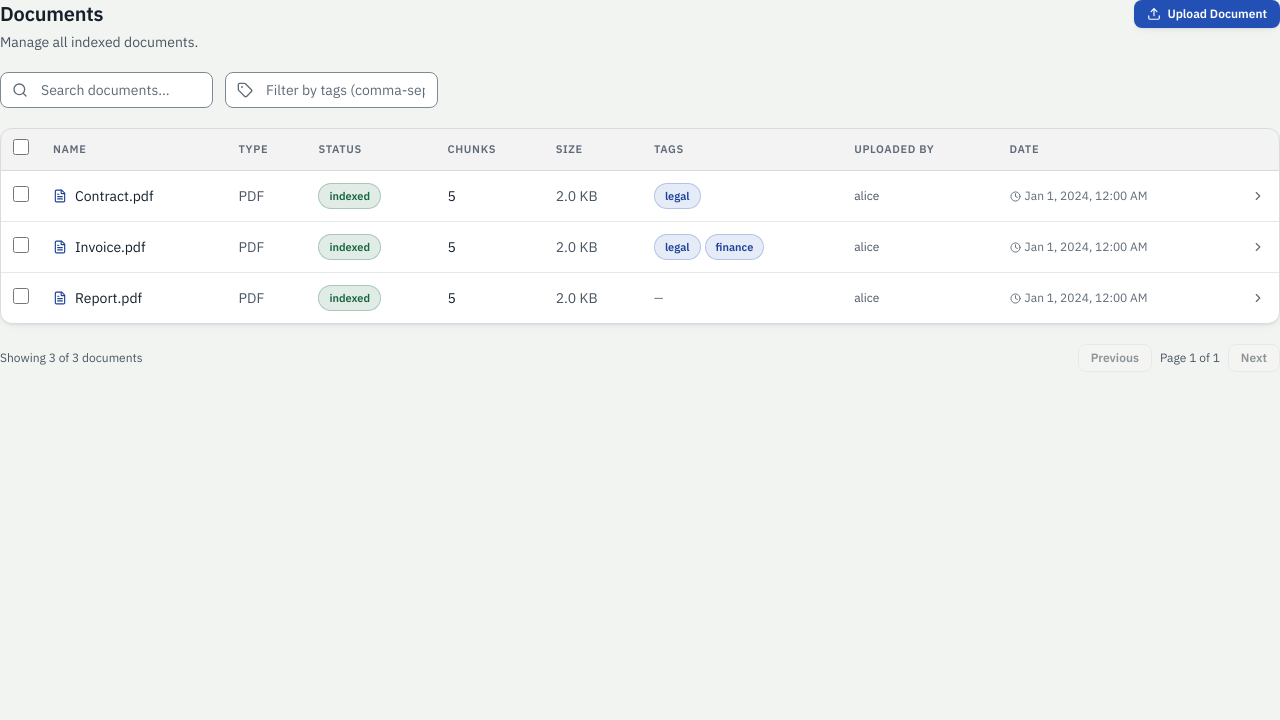
it: AdminDocumentsPage — Fix round 1 › partial failure: clears only the ids that succeeded
Expected: the text "Contract.pdf" is shown, [75,186,154,206]
Click the checkbox named "Select all documents" at {"x": 21, "y": 147}, box [13,139,29,155]
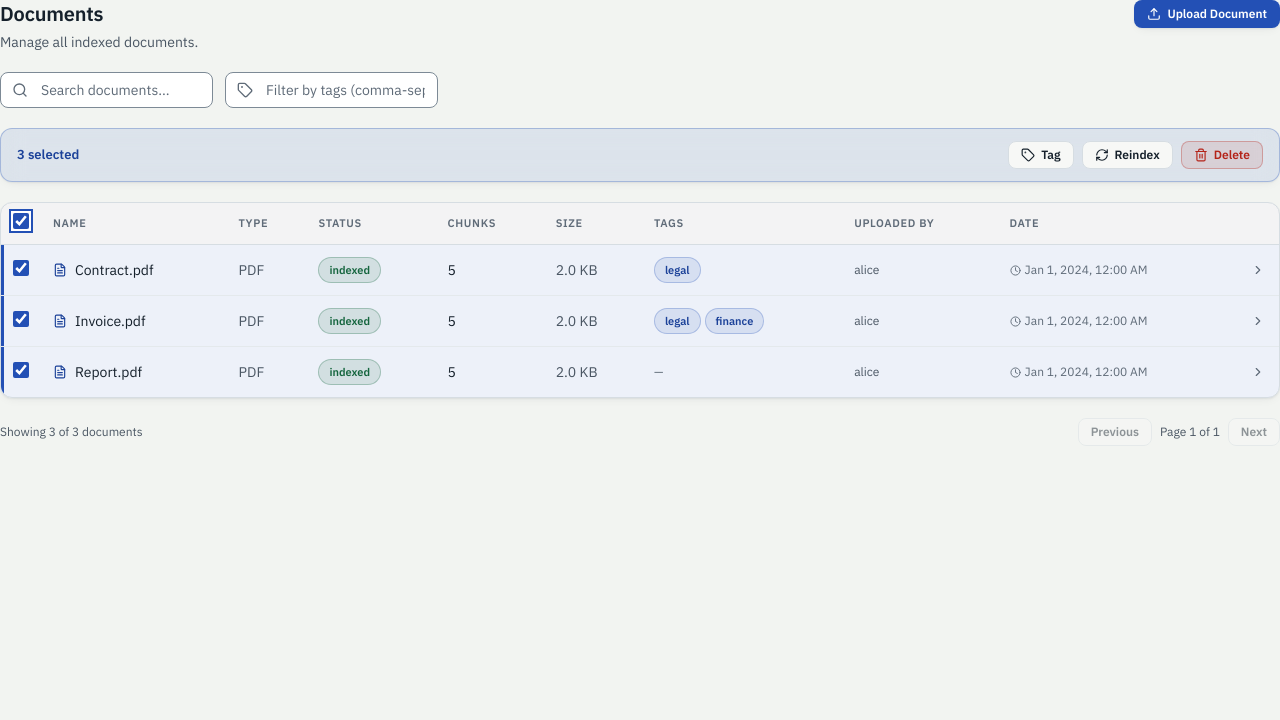
Click the checkbox named "Select Contract.pdf" at {"x": 21, "y": 268}, box [13,260,29,276]
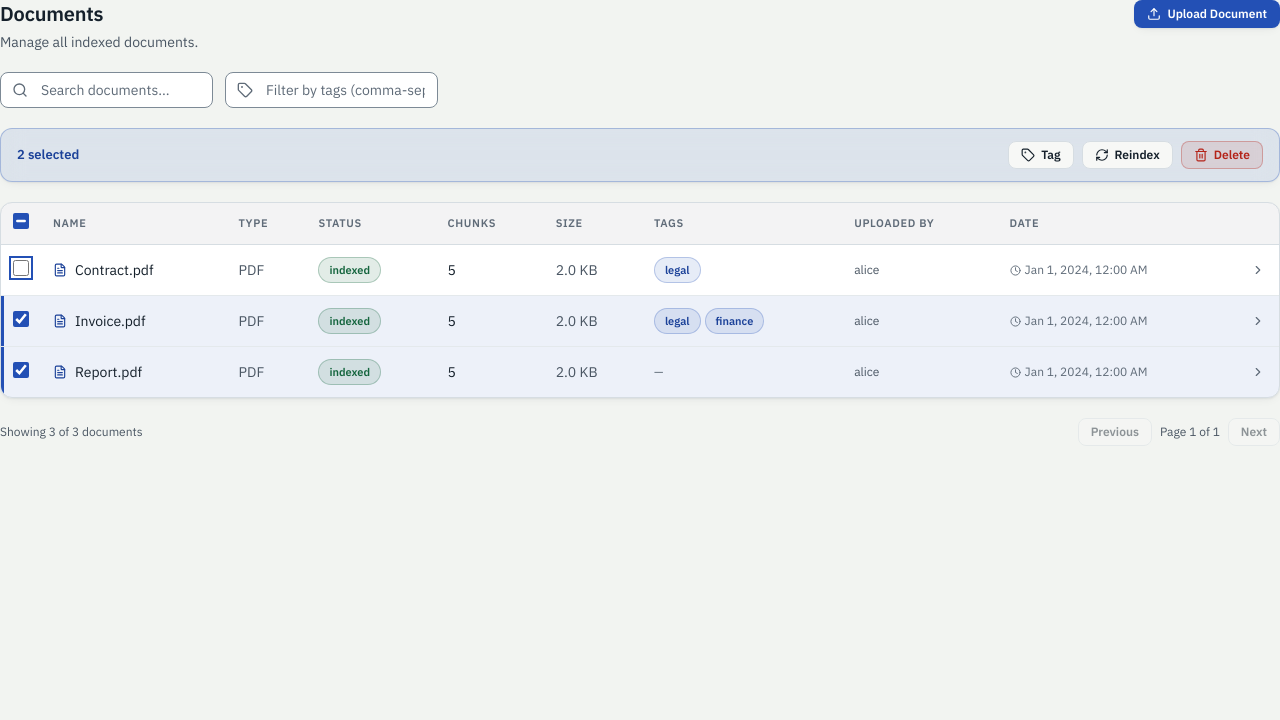
Expected: the text "2 selected" is shown, [17,145,79,165]
Click the button "Delete" at {"x": 1222, "y": 155}, box [1181,141,1263,169]
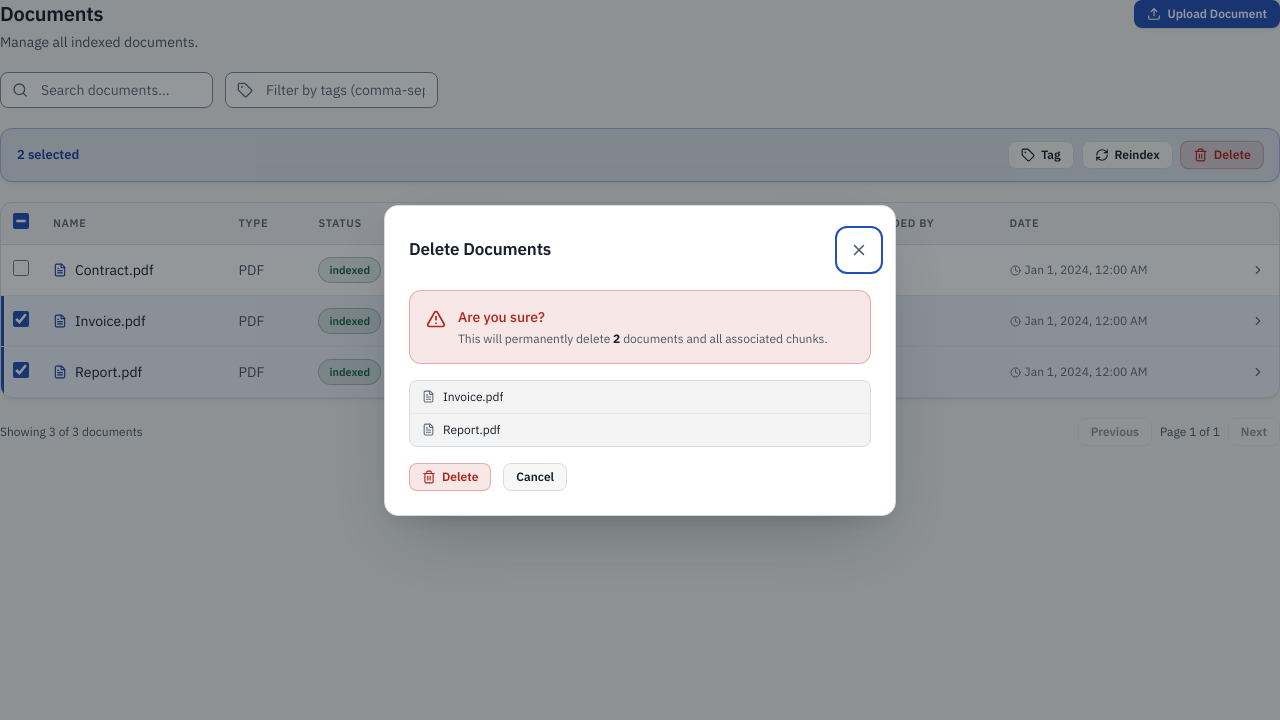
Click the button "Delete" at {"x": 450, "y": 476}, box [409,462,491,490]
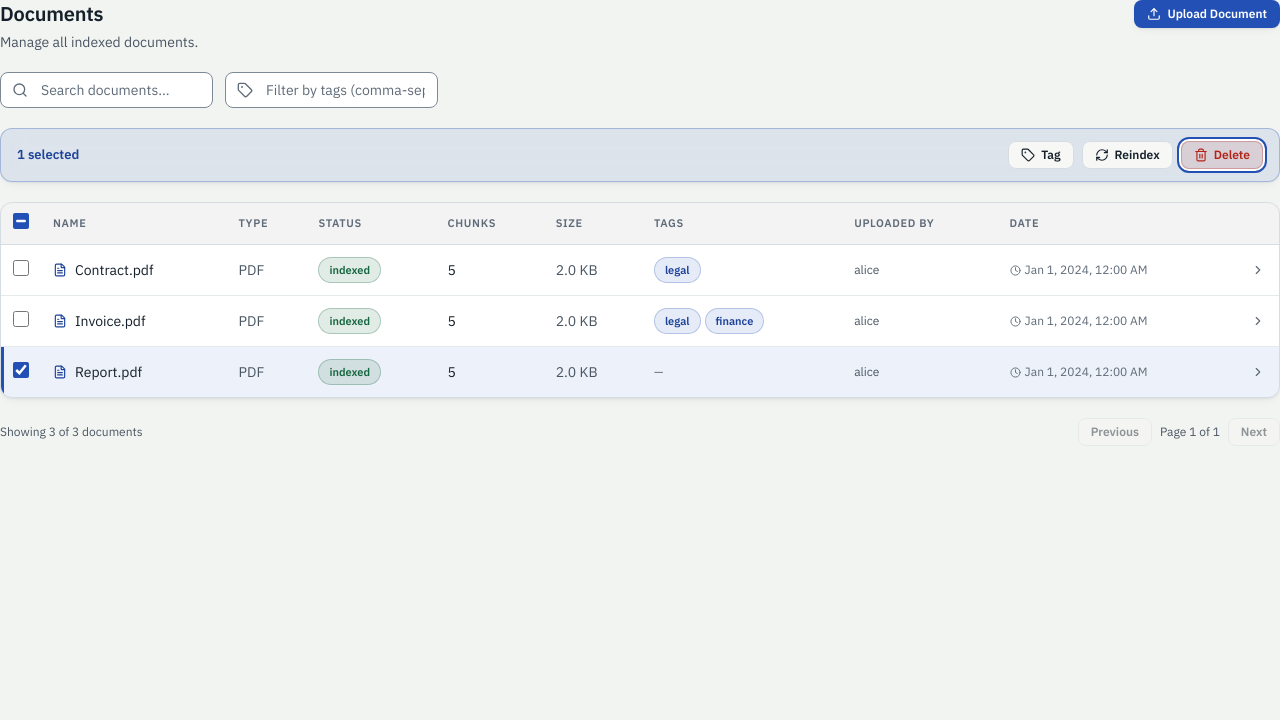
Expected: the checkbox named "Select Report.pdf" is checked, [13,362,29,378]
Expected: the text "1 selected" is shown, [17,145,79,165]
Expected: the checkbox named "Select Invoice.pdf" is not checked, [13,310,29,326]
